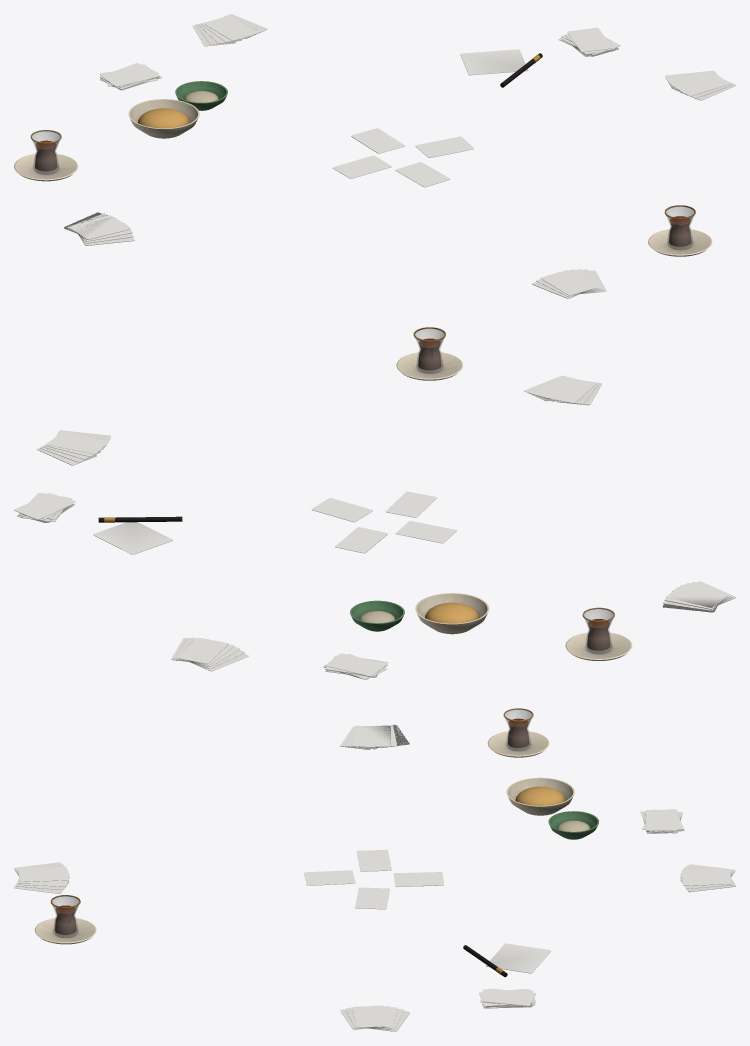
The model's file is set-hokm.glb.
The picture shows the model from 3 angles, top to bottom: view 1: azimuth 30°, elevation 25°; view 2: azimuth 150°, elevation 25°; view 3: azimuth 270°, elevation 25°; orthographic projection. The views are drawn at different scales.
Parts seen in each view (by area): view 1: Hands, Tea, Trick, WonTricks, TeaGlass, SeedBowl, ScoreSheet, ShellBowl, Seeds; view 2: Hands, Tea, Trick, WonTricks, TeaGlass, SeedBowl, ScoreSheet, ShellBowl, Seeds; view 3: Hands, Tea, Trick, WonTricks, TeaGlass, SeedBowl, ScoreSheet, ShellBowl, Seeds.
Boxes of the visible parts, <box> form: Hands: <box>64,14,735,298</box>; Tea: <box>14,140,712,256</box>; Trick: <box>332,128,474,187</box>; WonTricks: <box>99,27,620,90</box>; TeaGlass: <box>32,130,694,250</box>; SeedBowl: <box>128,99,199,138</box>; ScoreSheet: <box>460,49,528,75</box>; ShellBowl: <box>175,81,227,110</box>; Seeds: <box>137,108,190,128</box>; Hands: <box>37,375,735,671</box>; Tea: <box>396,338,632,660</box>; Trick: <box>311,491,456,553</box>; WonTricks: <box>14,493,388,679</box>; TeaGlass: <box>415,328,613,654</box>; SeedBowl: <box>415,593,489,634</box>; ScoreSheet: <box>93,522,173,554</box>; ShellBowl: <box>350,600,404,631</box>; Seeds: <box>425,602,479,623</box>; Hands: <box>14,724,735,1031</box>; Tea: <box>34,718,549,944</box>; Trick: <box>304,849,444,909</box>; WonTricks: <box>479,809,684,1008</box>; TeaGlass: <box>50,708,532,937</box>; SeedBowl: <box>506,777,574,815</box>; ScoreSheet: <box>486,943,551,973</box>; ShellBowl: <box>548,811,598,839</box>; Seeds: <box>515,786,565,805</box>.
Bounding box in the file's own units: 1.31 × 0.0685 × 1.31.
Materials: 5 (1 with a texture image).
